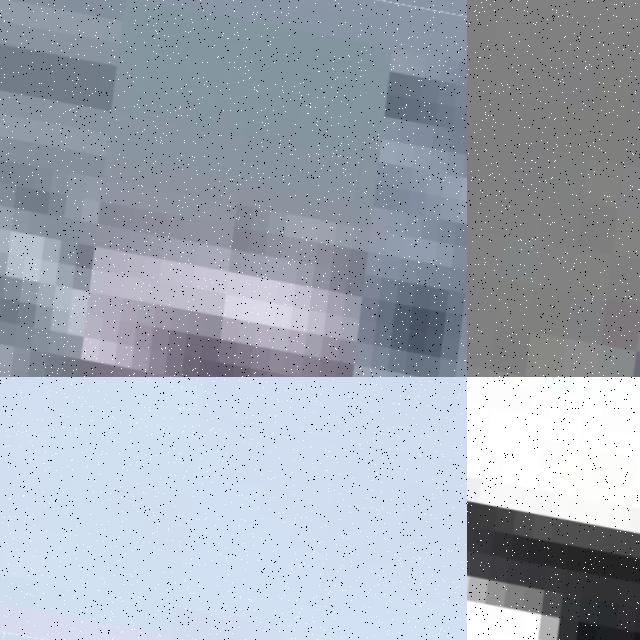0: (0, 0, 467, 377)
drone: (0, 377, 467, 640), (467, 0, 640, 377), (467, 377, 640, 640)
